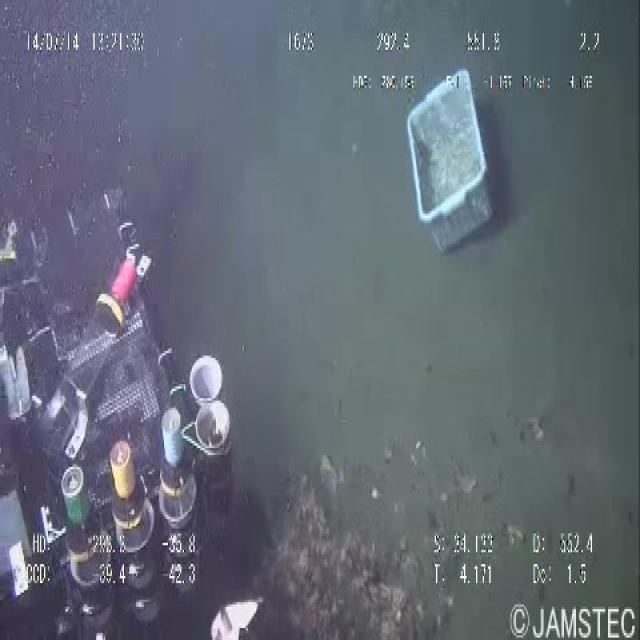plastic: (382, 47, 509, 261)
